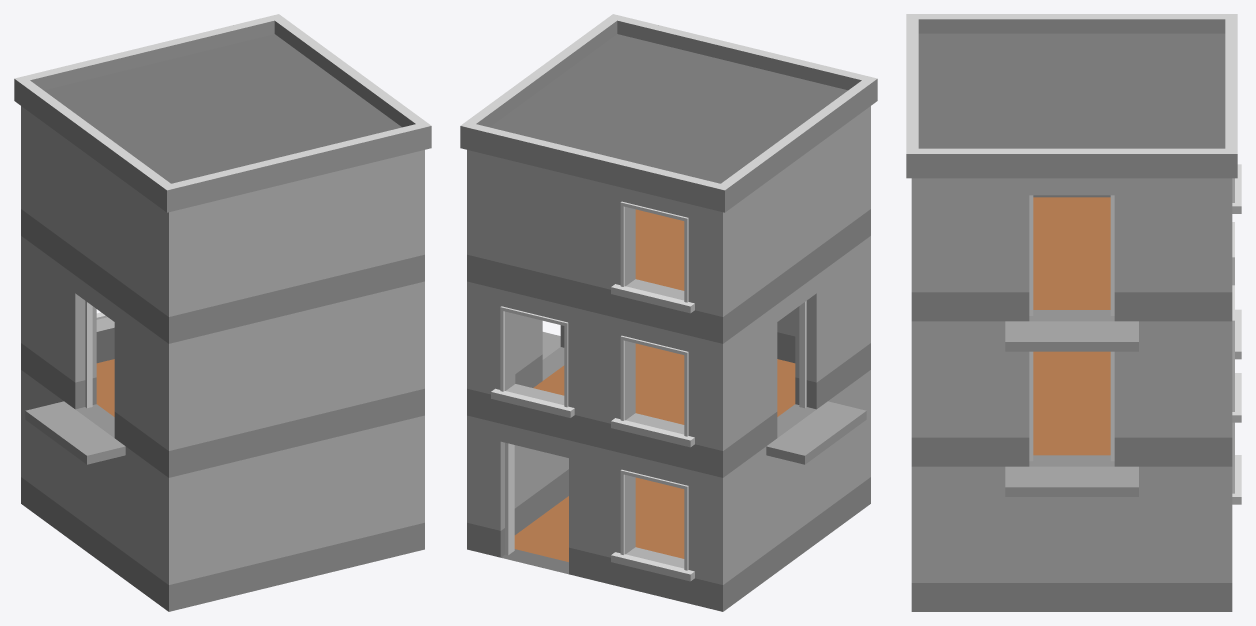
Rendered from LivingHouseB.fbx.
3 renders of one model, left to right at view 1: azimuth 30°, elevation 25°; view 2: azimuth 150°, elevation 25°; view 3: azimuth 270°, elevation 25°, orthographic. The views are drawn at different scales.
Visible parts, largest first — view 1: LivingHouseBFloorB, LivingHouseBFloorC, LivingHouseBFloorA, LivingHouseBRoof; view 2: LivingHouseBFloorB, LivingHouseBFloorC, LivingHouseBFloorA, LivingHouseBRoof; view 3: LivingHouseBRoof, LivingHouseBFloorC, LivingHouseBFloorB, LivingHouseBFloorA.
Boxes of the visible parts, x1,y1,x2,y2 form: LivingHouseBFloorB: [21, 236, 424, 477]; LivingHouseBFloorC: [21, 106, 424, 343]; LivingHouseBFloorA: [21, 370, 424, 611]; LivingHouseBRoof: [14, 14, 431, 212]; LivingHouseBFloorB: [467, 236, 870, 477]; LivingHouseBFloorC: [467, 106, 870, 343]; LivingHouseBFloorA: [467, 370, 870, 611]; LivingHouseBRoof: [460, 14, 877, 212]; LivingHouseBRoof: [906, 14, 1237, 178]; LivingHouseBFloorC: [911, 164, 1241, 351]; LivingHouseBFloorB: [911, 222, 1241, 496]; LivingHouseBFloorA: [911, 422, 1241, 611].
Size of the model in its own units: 782 by 970 by 627.
